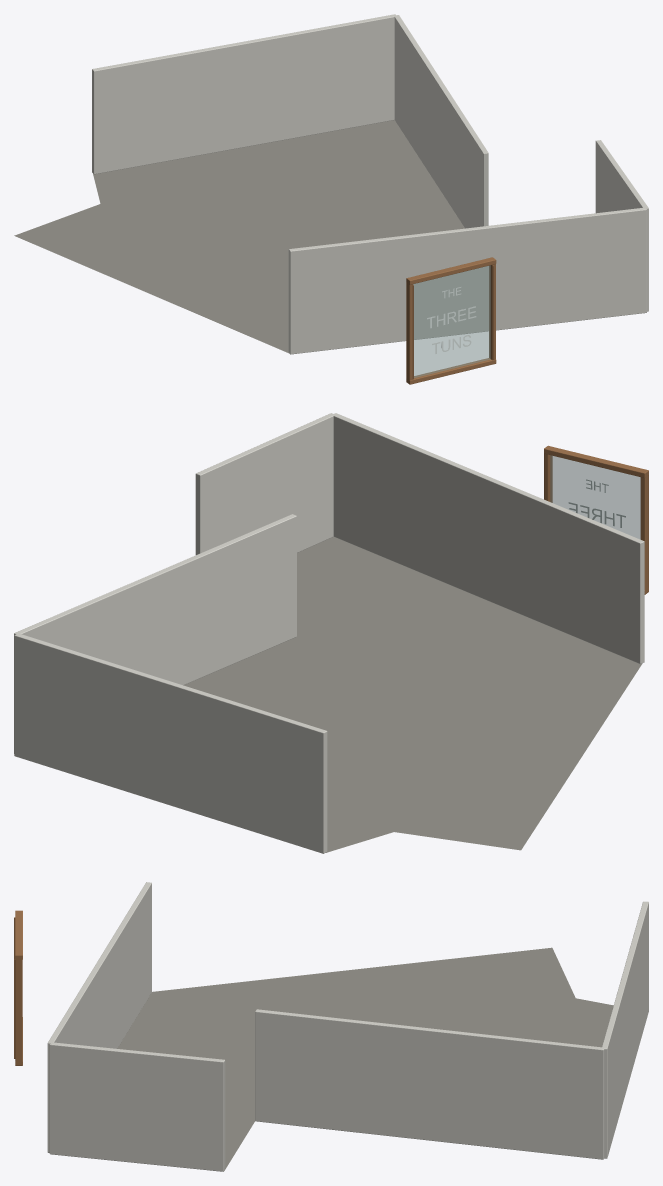
File: saw-three-tuns-interior-5e84cf5f55c2.glb
The picture shows the model from 3 angles, top to bottom: view 1: azimuth 30°, elevation 25°; view 2: azimuth 150°, elevation 25°; view 3: azimuth 270°, elevation 25°; orthographic projection. The views are drawn at different scales.
Visible parts, largest first — view 1: saw-three-tuns; view 2: saw-three-tuns; view 3: saw-three-tuns.
Boxes of the visible parts, bbox=[...] form: saw-three-tuns: bbox=[14, 14, 648, 384]; saw-three-tuns: bbox=[14, 413, 648, 853]; saw-three-tuns: bbox=[14, 882, 648, 1171].
Bounding box in the file's own units: 12.25 × 2.84 × 14.65.
